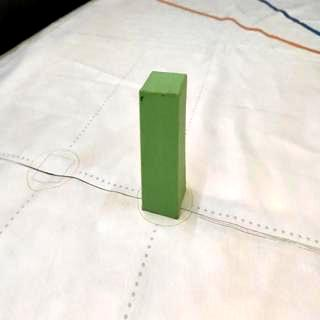greenbox: (138, 70, 190, 219)
